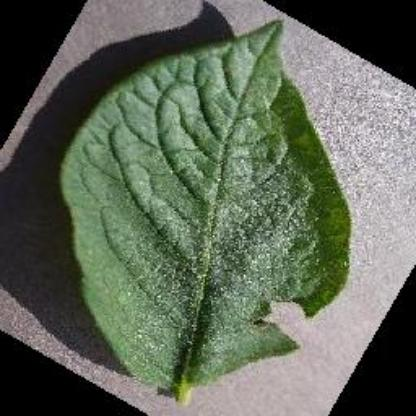Healthy-plant: (14, 17, 384, 414)
